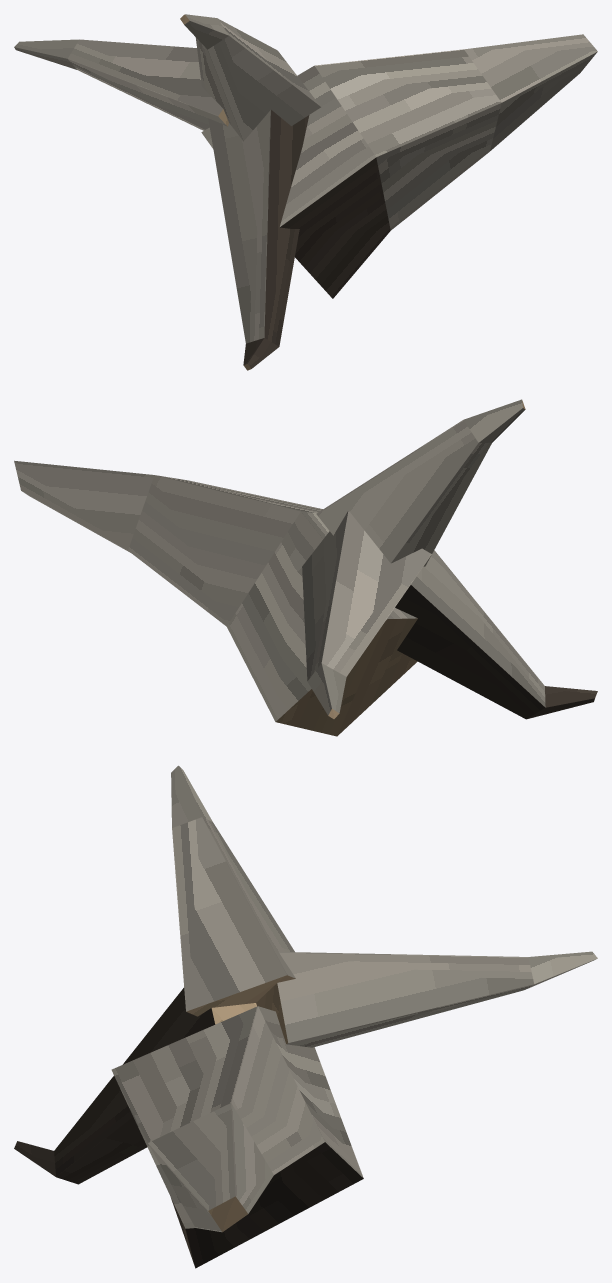
File: loose-root-plate-mid.glb
The picture shows the model from 3 angles, top to bottom: view 1: azimuth 30°, elevation 25°; view 2: azimuth 150°, elevation 25°; view 3: azimuth 270°, elevation 25°; orthographic projection. The views are drawn at different scales.
Visible parts, largest first — view 1: loose-root-plate.001; view 2: loose-root-plate.001; view 3: loose-root-plate.001.
Part boxes in pixels (box(x1,y1,x2,y2)): loose-root-plate.001: box(14, 14, 597, 370); loose-root-plate.001: box(14, 399, 597, 736); loose-root-plate.001: box(14, 765, 597, 1268).
Bounding box in the file's own units: 2.5 × 1.82 × 2.35.
3 materials, 3 textured.
